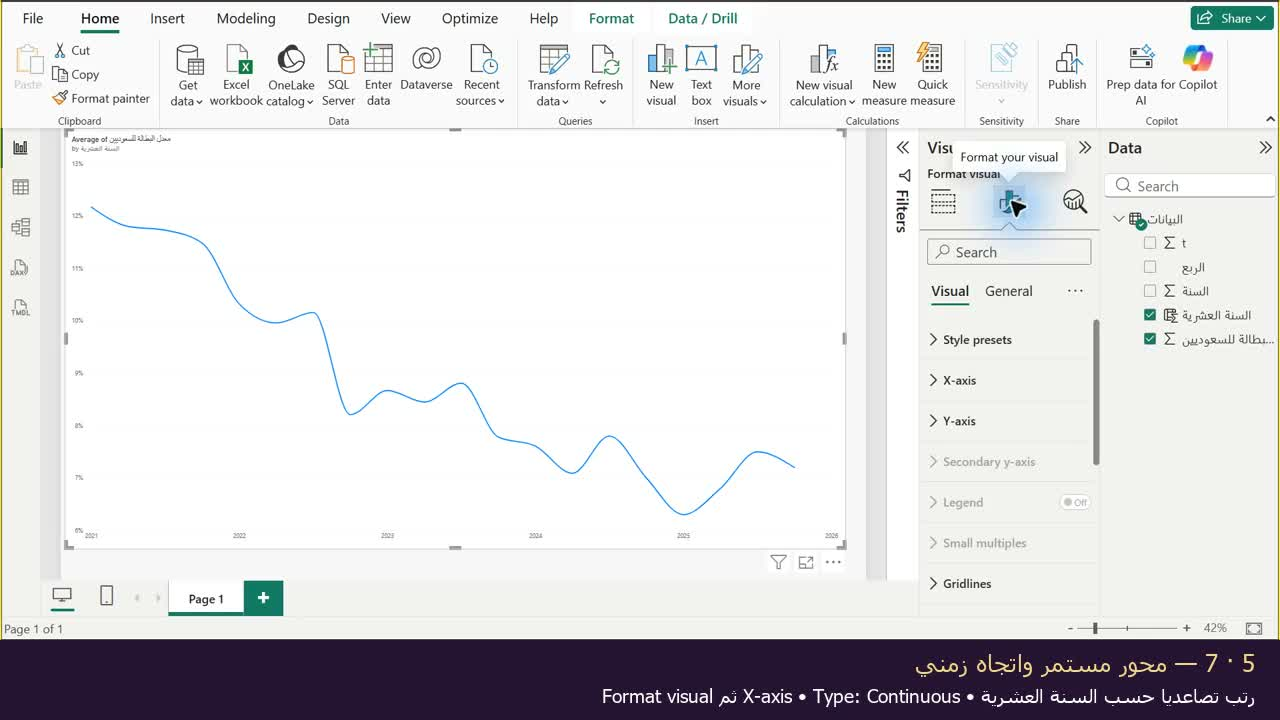

This screenshot's page, from the dashboard's own definition file:
{"tool":"powerbi","page":{"name":"Page 1","canvas":[1920,1080],"ordinal":0},"visuals":[{"type":"lineChart","fields":{"Category":["البيانات.السنة العشرية"],"Y":["Avg(البيانات.معدل البطالة للسعوديين)"]},"box":[9.5,0,1862.7,1005.4],"z":0}]}

Visuals, with their boxes on the page's 1920x1080 design canvas (x1, y1, x2, y2). These are canvas units, not pixel positions in the 1280x720 screenshot, which may show the page scaled, cropped or inside an application window:
lineChart - البيانات.السنة العشرية x Avg(البيانات.معدل البطالة للسعوديين): [10,0,1872,1005]
